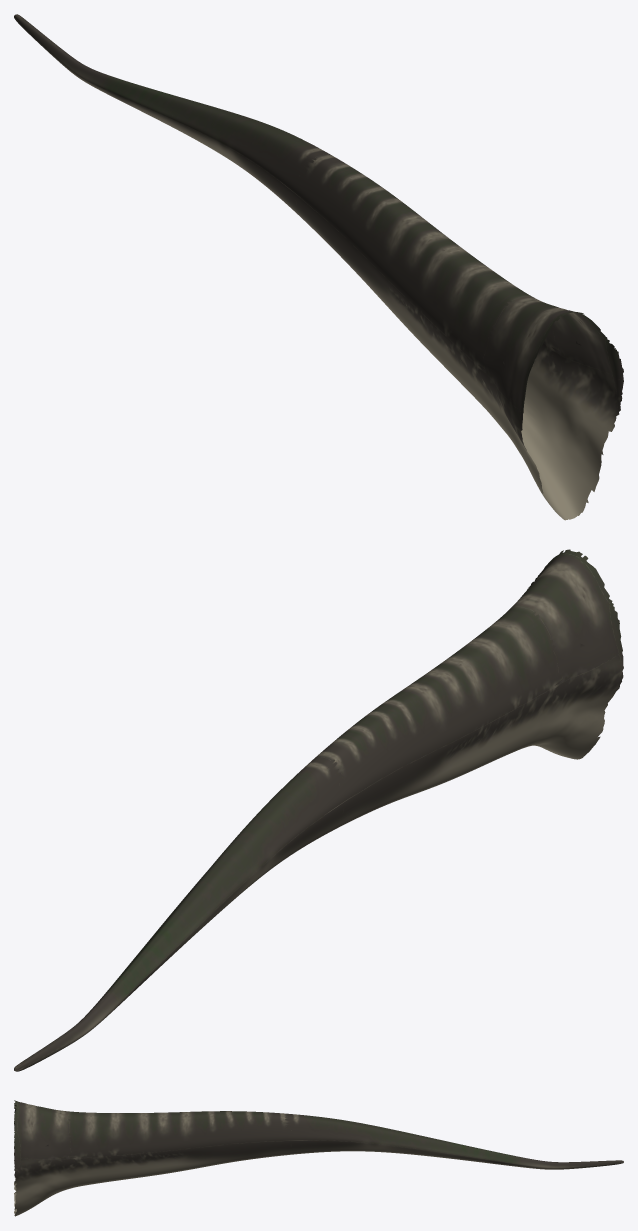
Rendered from cola.obj.
The picture shows the model from 3 angles, top to bottom: view 1: azimuth 30°, elevation 25°; view 2: azimuth 150°, elevation 25°; view 3: azimuth 270°, elevation 25°; orthographic projection. The views are drawn at different scales.
Visible parts, largest first — view 1: Cylinder_027; view 2: Cylinder_027; view 3: Cylinder_027.
Boxes of the visible parts, <box> form: Cylinder_027: <box>14,14,623,520</box>; Cylinder_027: <box>14,549,623,1071</box>; Cylinder_027: <box>14,1100,623,1216</box>.
Size of the model in its own units: 0.2552 by 0.497 by 2.42.
1 material, 1 textured.
